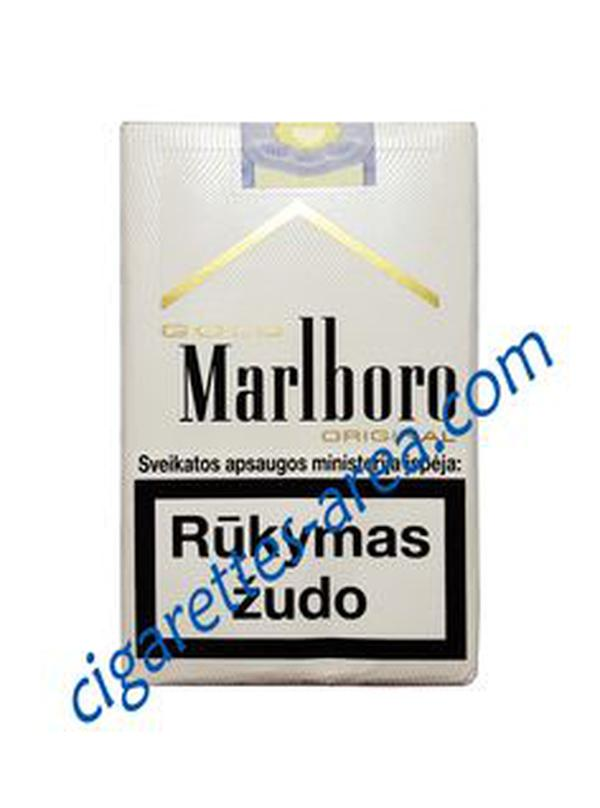marlboro_gold: (126, 127, 474, 677)
